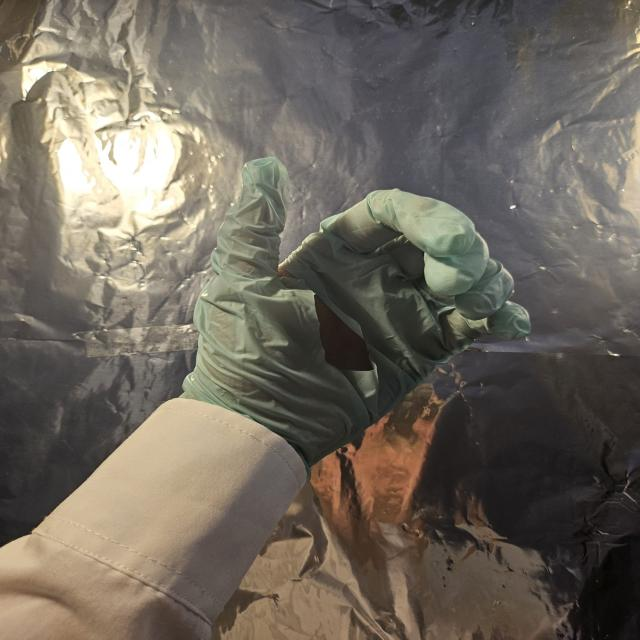gloves_damaged: (168, 153, 549, 454)
